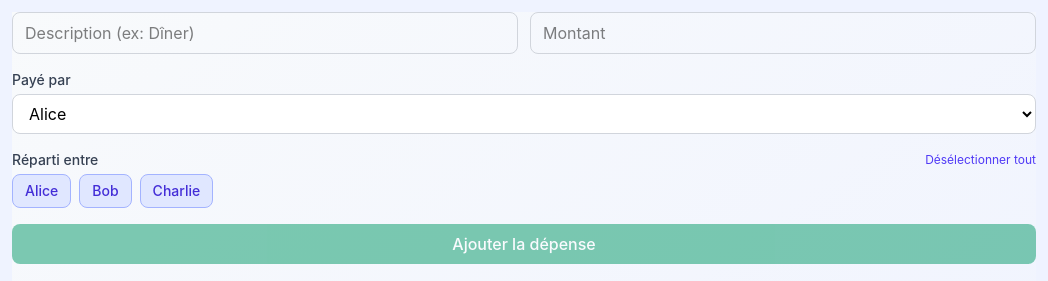
AddExpense › toggles all selection via button
Click the button "Désélectionner tout" at (981, 160), box [925,152,1036,168]
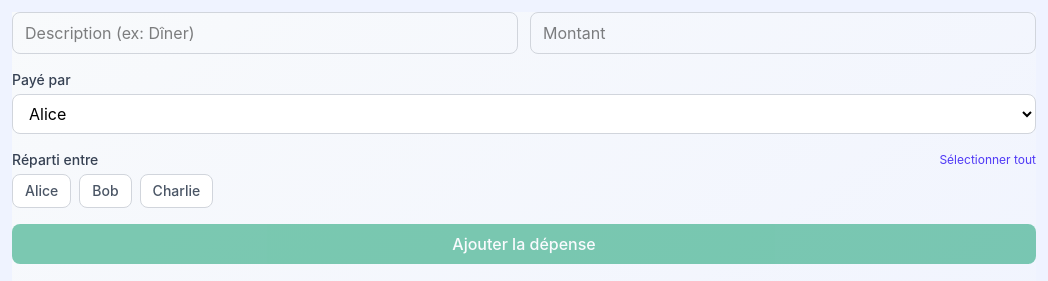
Click the button "Sélectionner tout" at (988, 160), box [939,152,1036,168]
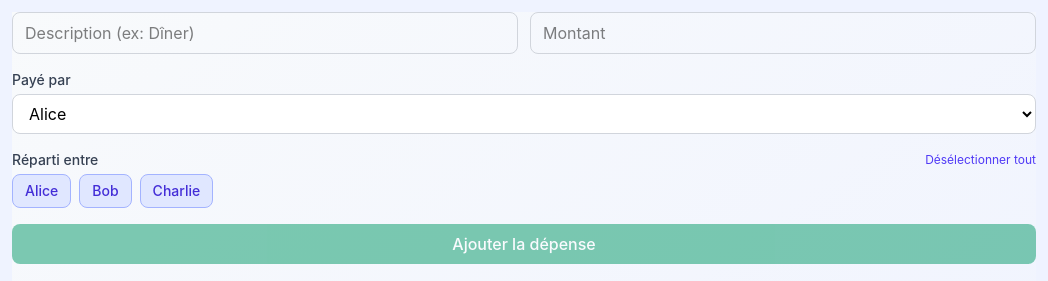
Expected: the button "Désélectionner tout" is shown, [925,152,1036,168]
